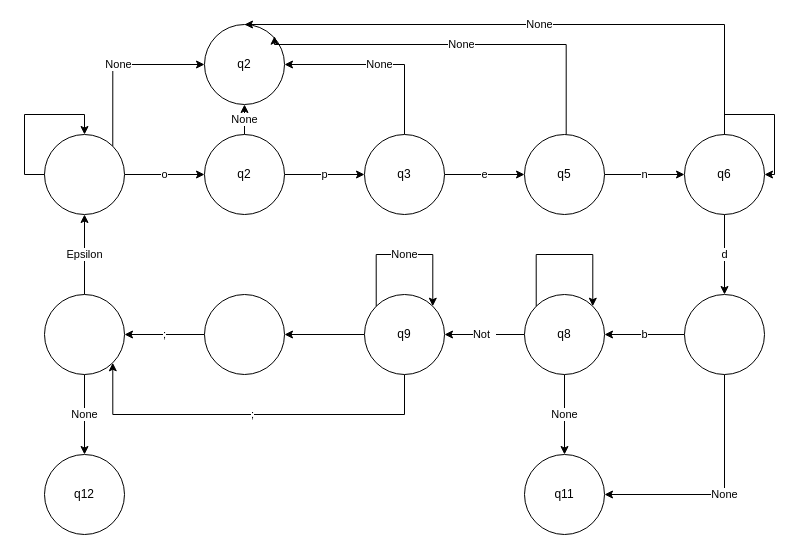
Some shapes in this 800 by 552 pixel diagram are drawn without their labels. Each missing label, with the centre of its shape:
q0: point (84, 174)
q10: point (84, 334)
q13: point (244, 334)
q7: point (724, 334)
